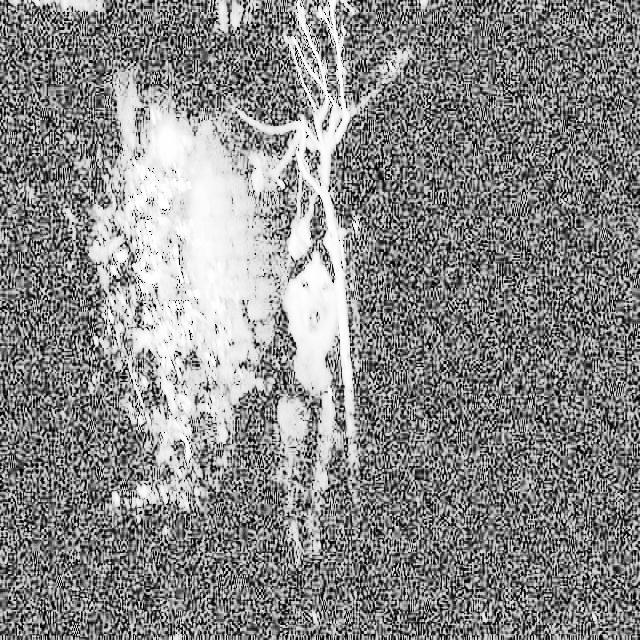Dog: (252, 222, 345, 488)
